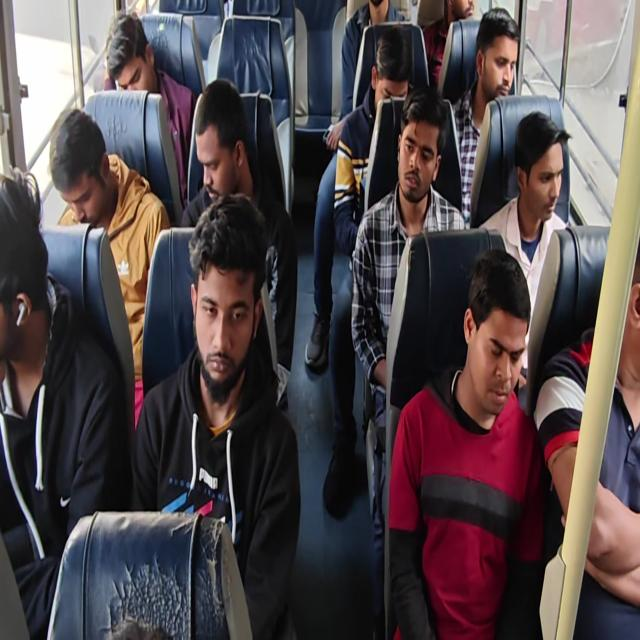person: (1, 1, 638, 638), (131, 192, 301, 638), (350, 84, 467, 637), (387, 248, 547, 638), (0, 167, 130, 637), (534, 232, 640, 636), (49, 108, 171, 430), (180, 78, 298, 410), (305, 27, 412, 371), (477, 110, 572, 388), (104, 11, 197, 205), (333, 29, 412, 256), (450, 7, 520, 224), (326, 0, 406, 150), (422, 0, 474, 89)
